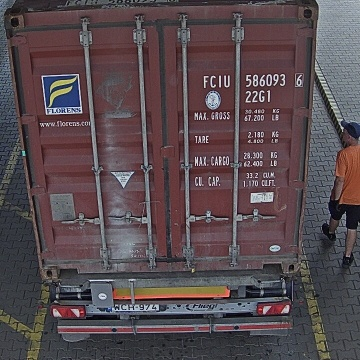serial_id: (203, 73, 304, 87)
